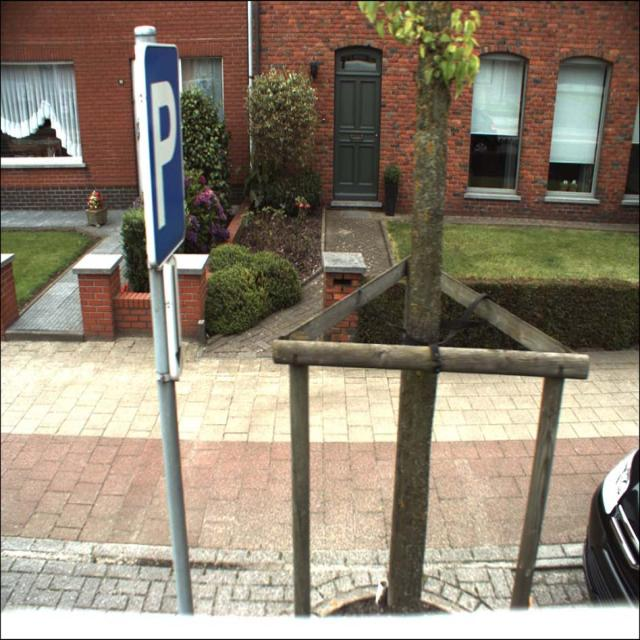park: (142, 27, 190, 261)
